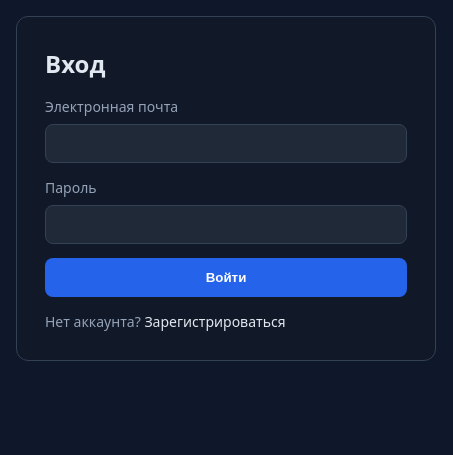
<LoginForm /> › shows localized error on 401
Type "x@example.com" into the field labelled "Электронная почта". click: (226, 143)
box: [45, 124, 407, 163]
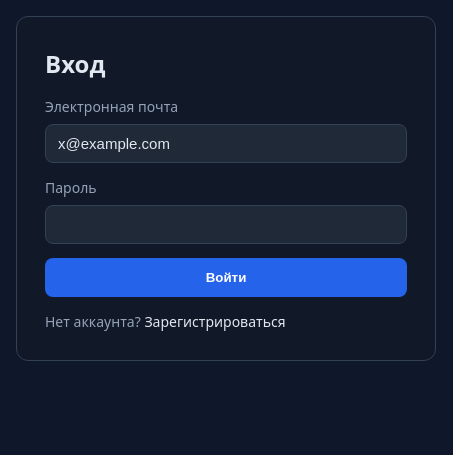
Type "whatever" into the password field labelled "Пароль". click: (226, 224)
box: [45, 205, 407, 244]
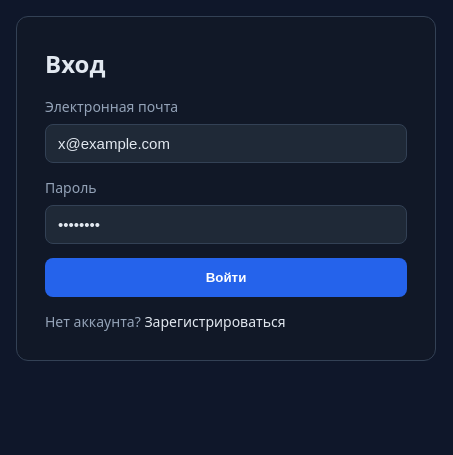
Submit the form from the button "Войти", box [45, 258, 407, 297]
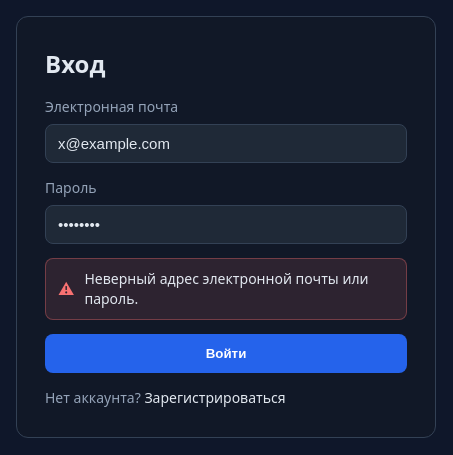
expect the message shows "Неверный адрес электронной почты или пароль": met, box [84, 269, 368, 308]
